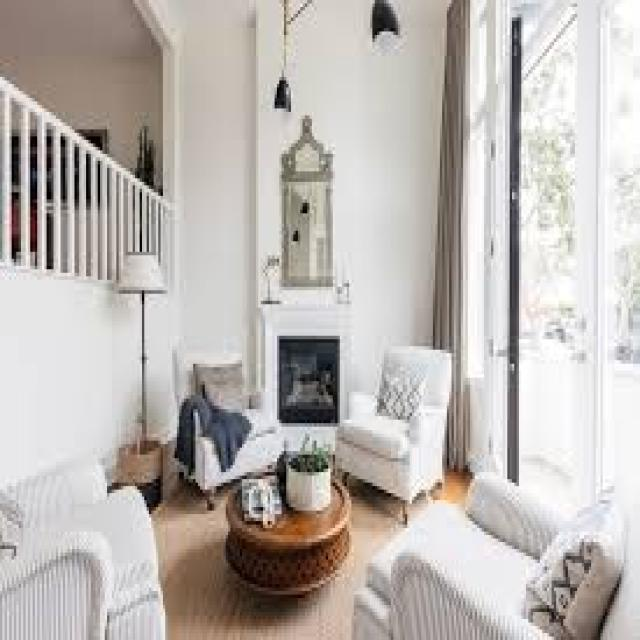Chair: (357, 443, 640, 637), (0, 444, 163, 640), (348, 336, 455, 508), (168, 334, 270, 496)
Lamp: (114, 247, 163, 464), (363, 0, 414, 60), (261, 52, 299, 119)
Table: (227, 449, 361, 601)
